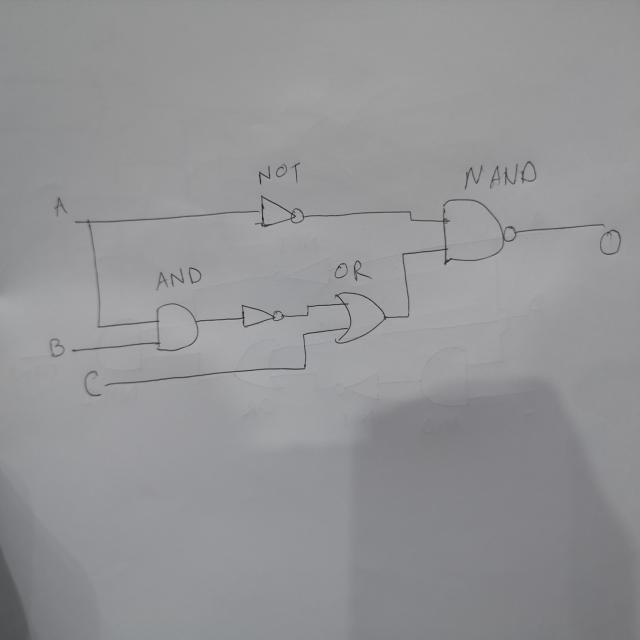junction: (398, 249, 408, 259), (300, 362, 308, 373), (85, 217, 93, 226), (404, 311, 411, 319), (299, 331, 306, 338), (95, 322, 101, 330), (304, 311, 309, 318), (408, 217, 414, 222), (305, 303, 310, 309), (407, 209, 413, 214)
terminal: (101, 379, 109, 390), (68, 344, 76, 354), (599, 219, 606, 228), (72, 217, 78, 227)
text: (462, 160, 538, 192), (256, 159, 302, 190), (155, 264, 203, 289), (330, 260, 371, 283), (598, 227, 624, 257), (82, 366, 104, 398), (48, 336, 67, 360), (53, 195, 69, 218)
